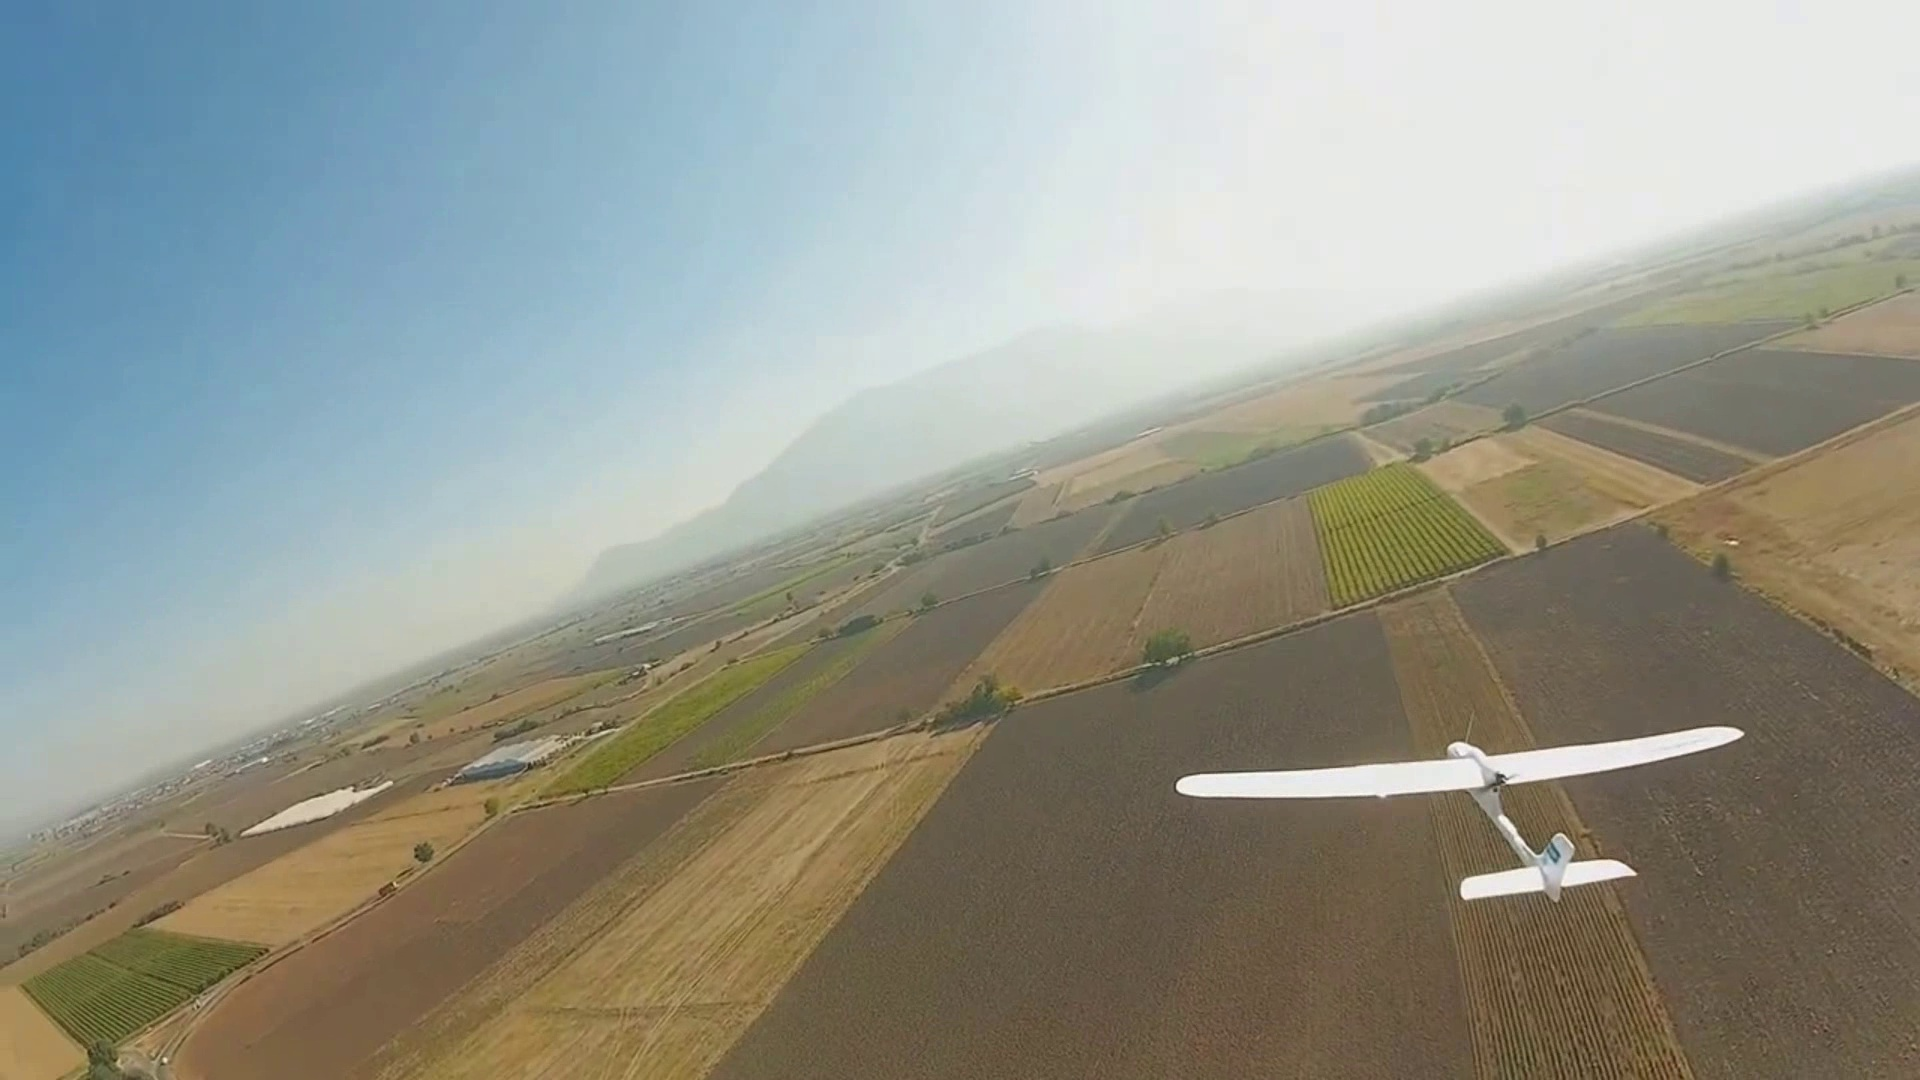airplane: (1174, 727, 1745, 898)
